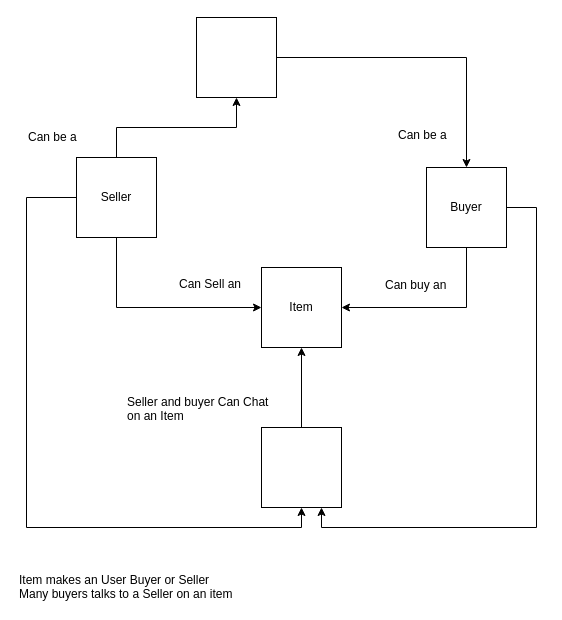
Some shapes in this 562 by 620 pixel diagram are drawn without their labels. Here are the shapes that lost their labels. From the top down, the centre of each, then its label:
the point at 236,57: User
the point at 301,467: Chat
